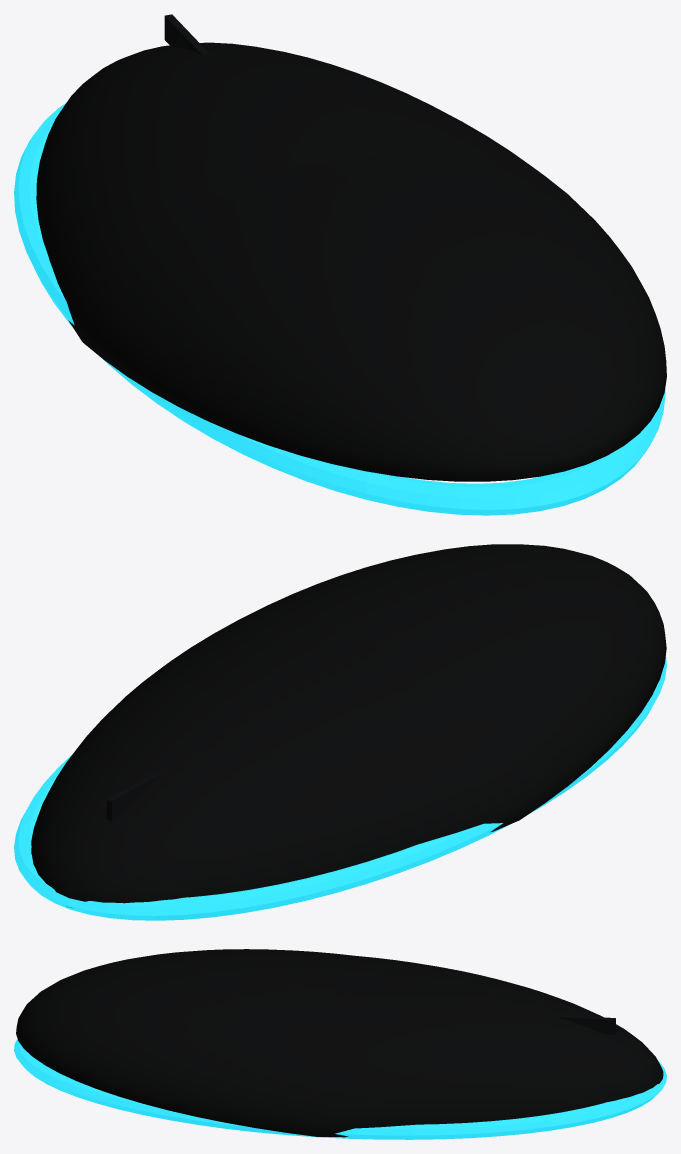
The model's file is mouse_gaming.glb.
The picture shows the model from 3 angles, top to bottom: view 1: azimuth 30°, elevation 25°; view 2: azimuth 150°, elevation 25°; view 3: azimuth 270°, elevation 25°; orthographic projection. The views are drawn at different scales.
Visible parts, largest first — view 1: mouse_gaming; view 2: mouse_gaming; view 3: mouse_gaming.
Part boxes in pixels (x1,y1,x2,y2): mouse_gaming: [14, 14, 666, 515]; mouse_gaming: [14, 544, 666, 920]; mouse_gaming: [14, 949, 666, 1139].
Bounding box in the file's own units: 0.0633 × 0.0195 × 0.1198.
